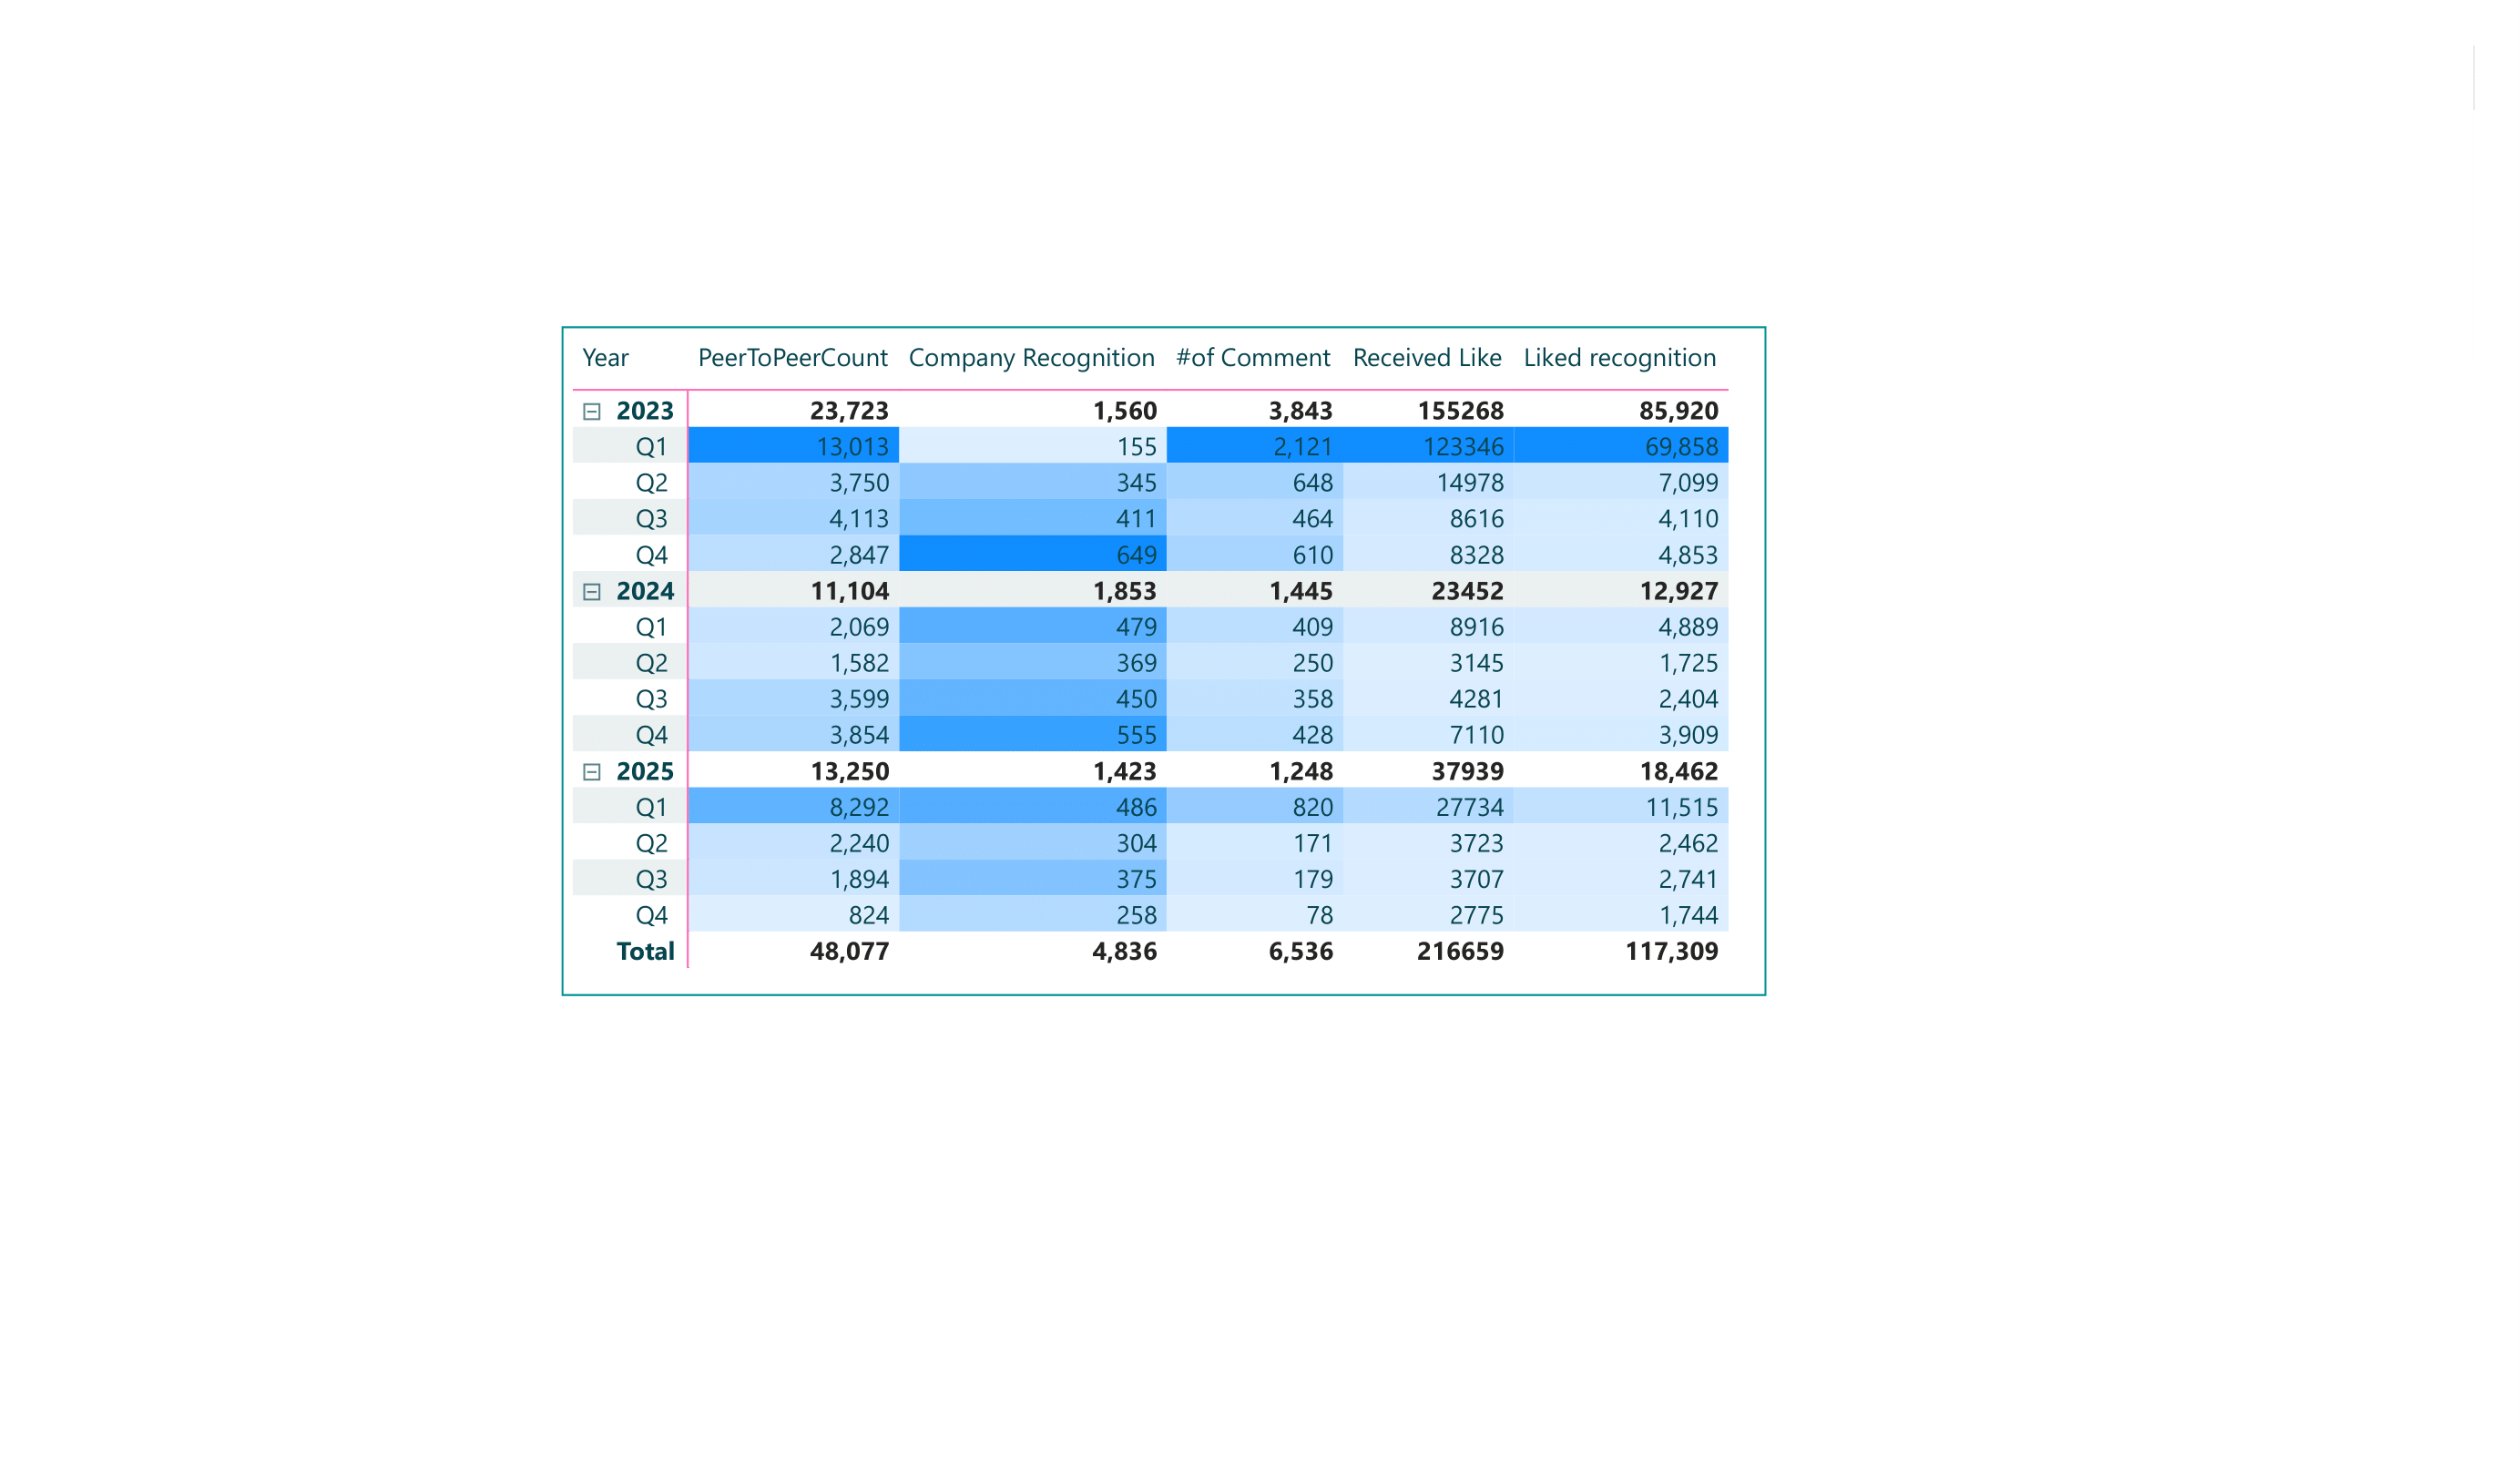

Layout of this report page (visuals, bound fields, positions):
{"tool":"powerbi","page":{"name":"Summery.1","canvas":[1280,720],"ordinal":9},"visuals":[{"type":"pivotTable","fields":{"Rows":["DimDate.Year","DimDate.Quarter"],"Values":["Recognition Data.PeerToPeerCount","Recognition Data.Company Recognition","Comment.#of Comment","Activities.Received Like","Activities.Liked recognition"]},"box":[272.2,148.3,635,352.8],"z":0}]}

Visuals, with their boxes on the page's 1280x720 design canvas (x1, y1, x2, y2). These are canvas units, not pixel positions in the 2520x1457 screenshot, which may show the page scaled, cropped or inside an application window:
pivotTable - DimDate.Year x DimDate.Quarter: region(272, 148, 907, 501)
